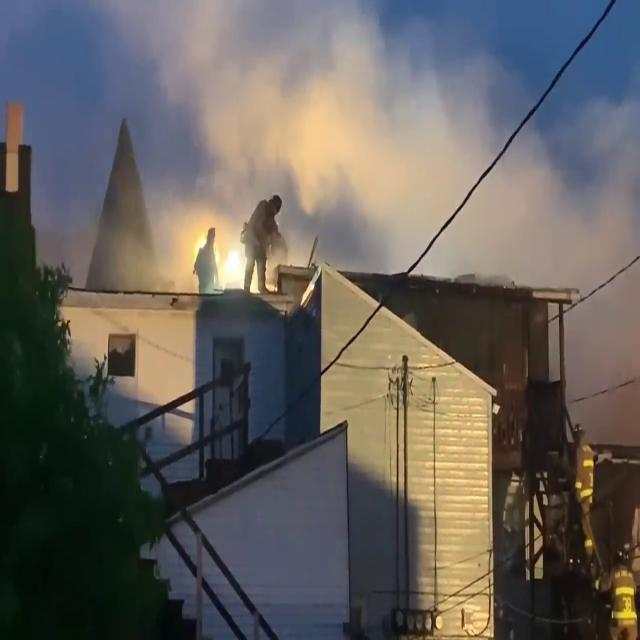Smoke: (142, 0, 552, 282), (510, 88, 637, 424)
